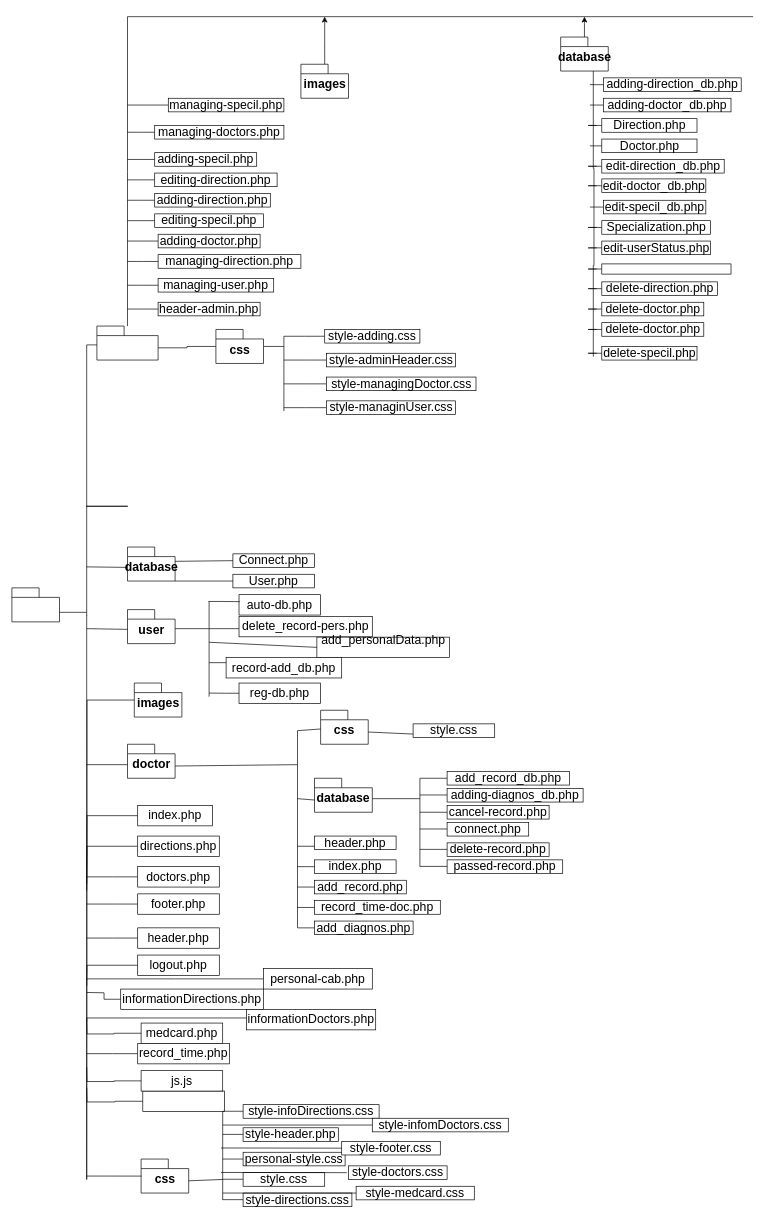
Some shapes in this 766 by 1219 pixel diagram are drawn without their labels. The shapes that lost their labels are listed below. From the top down, each one's centre as x and y in pixels, then its label:
At (666,268): "adding-specil_db.php".
At (127,342): "admin".
At (35,604): "hospital".
At (183,1100): "jquery-3.7.1.js".
